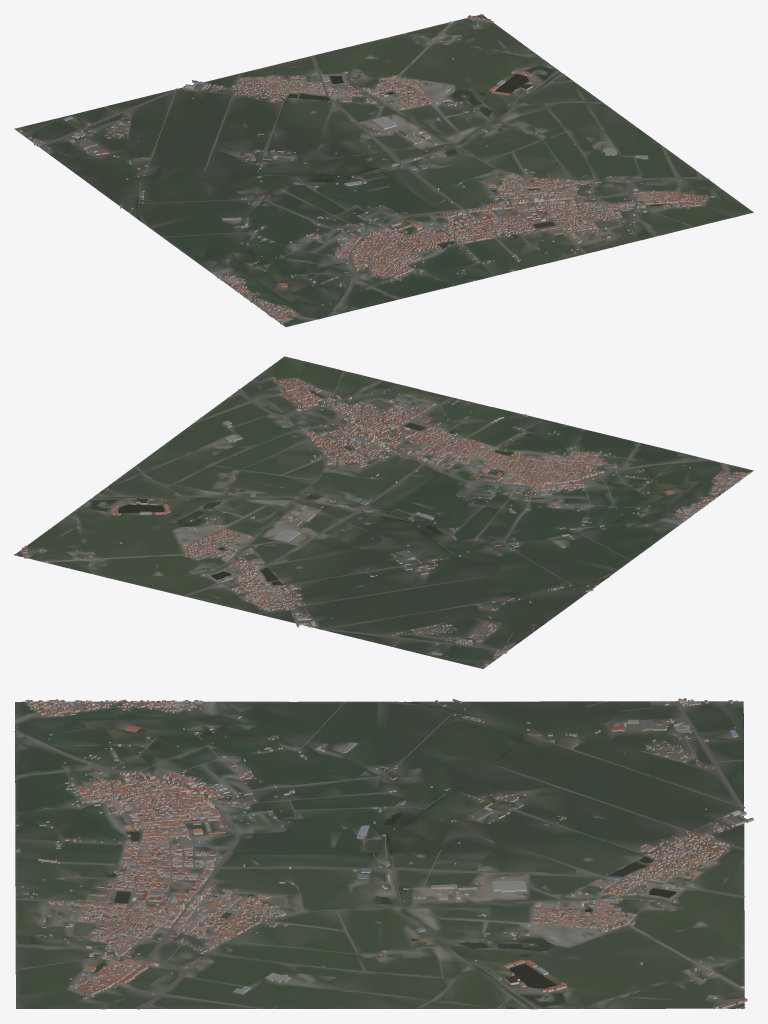
The picture shows the model from 3 angles, top to bottom: view 1: azimuth 30°, elevation 25°; view 2: azimuth 150°, elevation 25°; view 3: azimuth 270°, elevation 25°; orthographic projection. The views are drawn at different scales.
Visible parts, largest first — view 1: ground, buildings, roads, water; view 2: ground, buildings, roads, water; view 3: ground, buildings, roads, water.
Boxes of the visible parts, x1,y1,x2,y2 form: ground: [14, 15, 753, 326]; buildings: [16, 15, 714, 324]; roads: [28, 14, 708, 322]; water: [136, 15, 666, 317]; ground: [16, 356, 753, 668]; buildings: [22, 377, 750, 667]; roads: [14, 371, 745, 658]; water: [19, 380, 721, 596]; ground: [15, 701, 744, 1009]; buildings: [16, 698, 753, 1008]; roads: [14, 701, 745, 1009]; water: [16, 701, 744, 1008].
Size of the model in its own units: 2820 by 31.1 by 2846.
